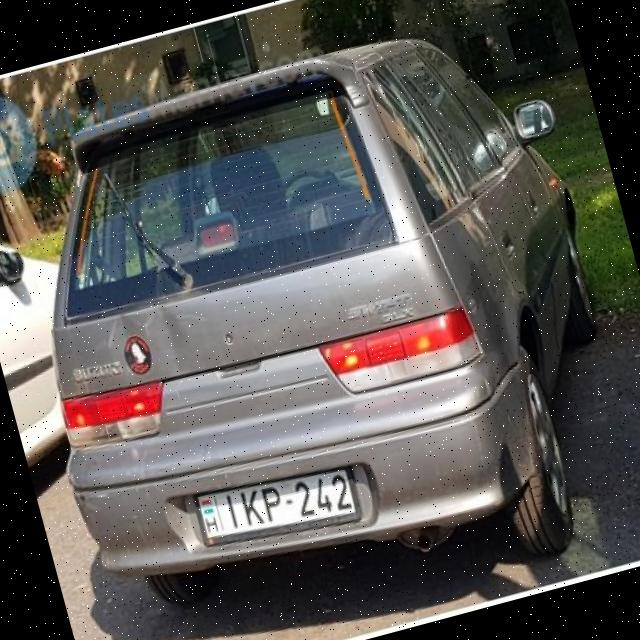licence: (190, 449, 367, 563)
